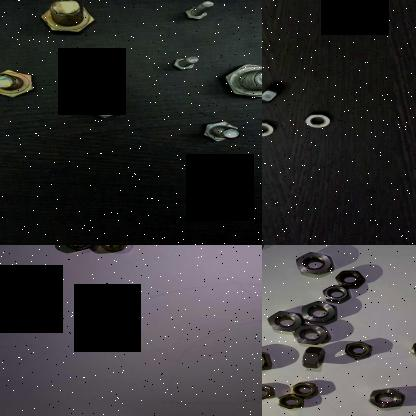Bolts: (30, 0, 108, 35), (219, 58, 262, 96), (0, 66, 39, 98), (82, 94, 133, 118), (198, 117, 245, 142), (180, 0, 228, 24), (166, 51, 200, 75)
NUTS: (302, 298, 346, 324), (292, 322, 338, 346), (294, 249, 338, 274), (263, 308, 305, 334), (366, 386, 410, 410), (300, 345, 330, 372), (333, 267, 367, 289), (342, 340, 380, 358), (274, 392, 308, 412), (262, 81, 290, 105), (320, 283, 353, 302), (288, 380, 322, 396), (302, 112, 332, 127), (262, 346, 274, 372), (262, 381, 277, 399), (262, 120, 277, 137), (96, 245, 128, 252), (64, 245, 94, 251), (408, 338, 416, 360)
